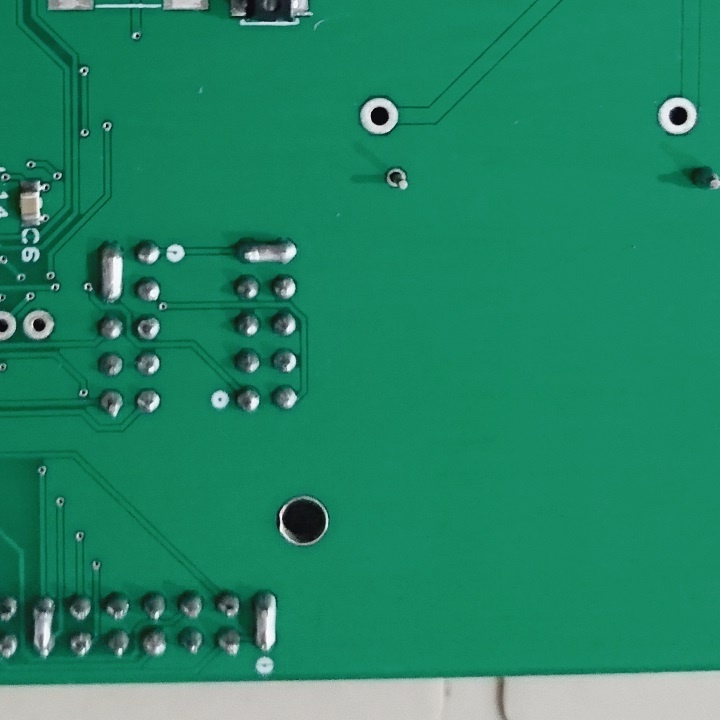F: (654, 94, 699, 138), (358, 95, 401, 139), (21, 306, 59, 343), (381, 163, 413, 198), (1, 308, 17, 343)
P: (230, 235, 301, 269), (251, 583, 281, 655), (96, 237, 126, 308), (29, 593, 56, 660)
